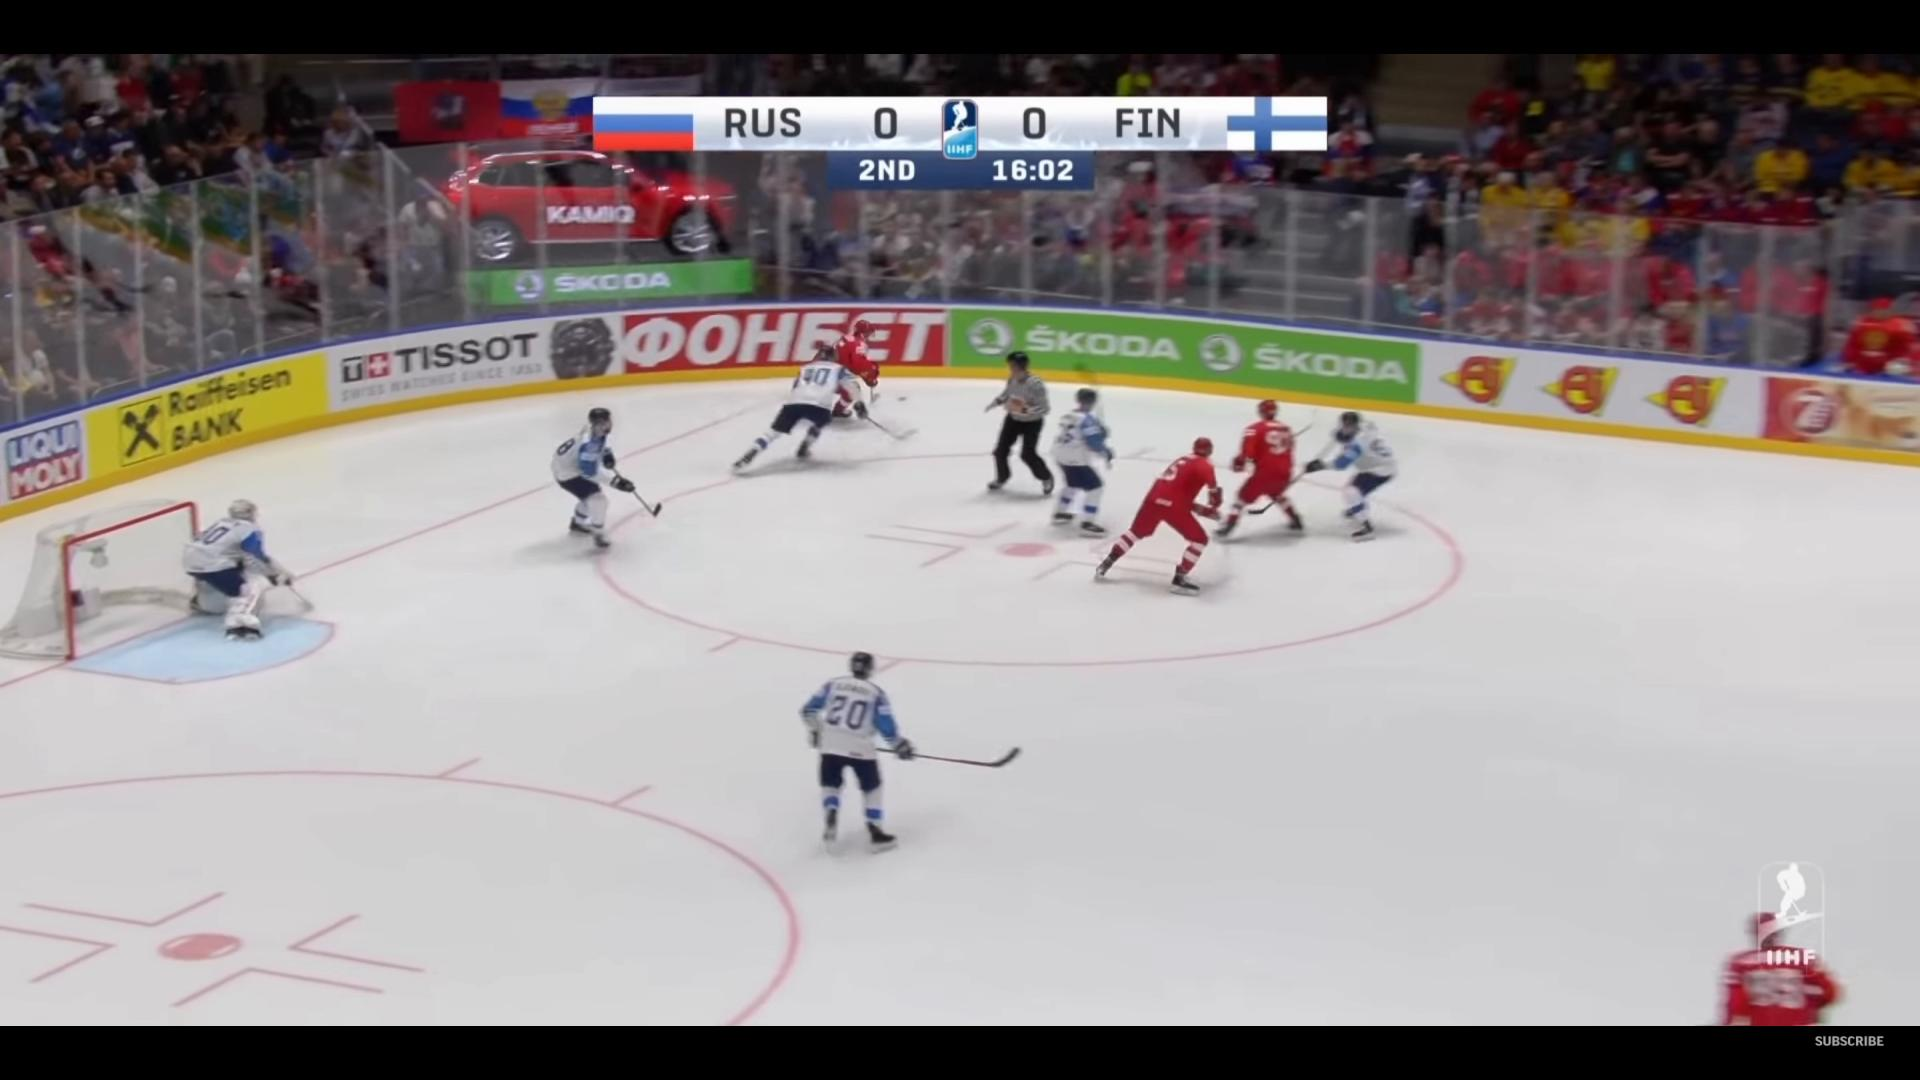puck: (897, 396, 906, 401)
